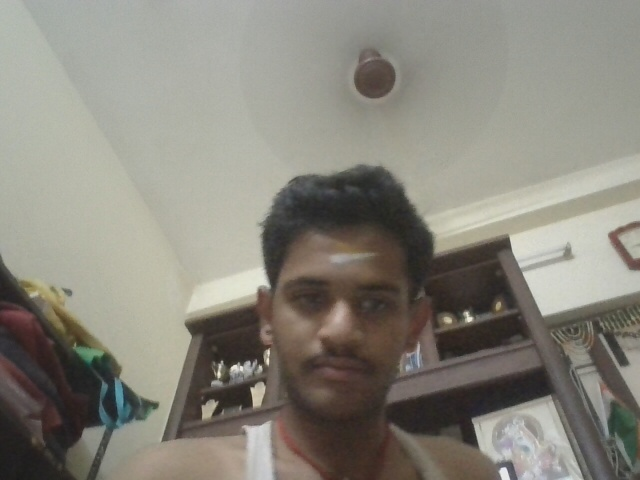real: (250, 230, 432, 412)
